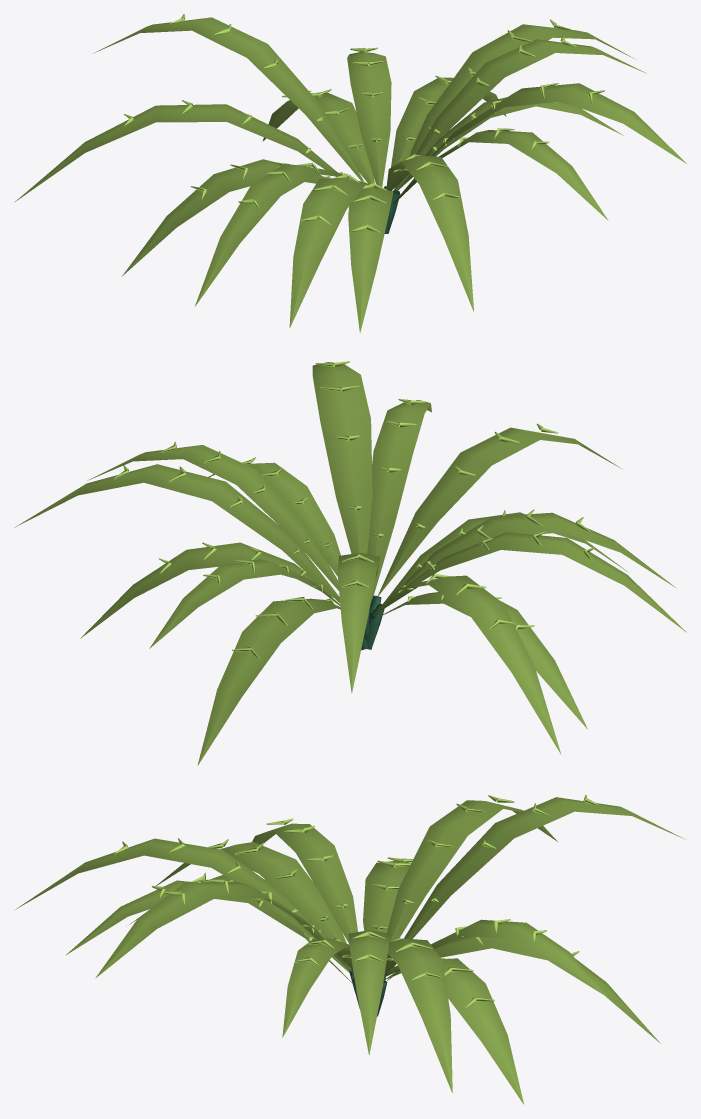
Rendered from Lime Strapleaf.glb.
The picture shows the model from 3 angles, top to bottom: view 1: azimuth 30°, elevation 25°; view 2: azimuth 150°, elevation 25°; view 3: azimuth 270°, elevation 25°; orthographic projection. The views are drawn at different scales.
Visible parts, largest first — view 1: Lime Strapleaf; view 2: Lime Strapleaf; view 3: Lime Strapleaf.
Boxes of the visible parts, x1,y1,x2,y2 form: Lime Strapleaf: [14, 14, 686, 332]; Lime Strapleaf: [14, 361, 686, 765]; Lime Strapleaf: [15, 795, 684, 1104].
Bounding box in the file's own units: 1.79 × 0.5796 × 1.74.
